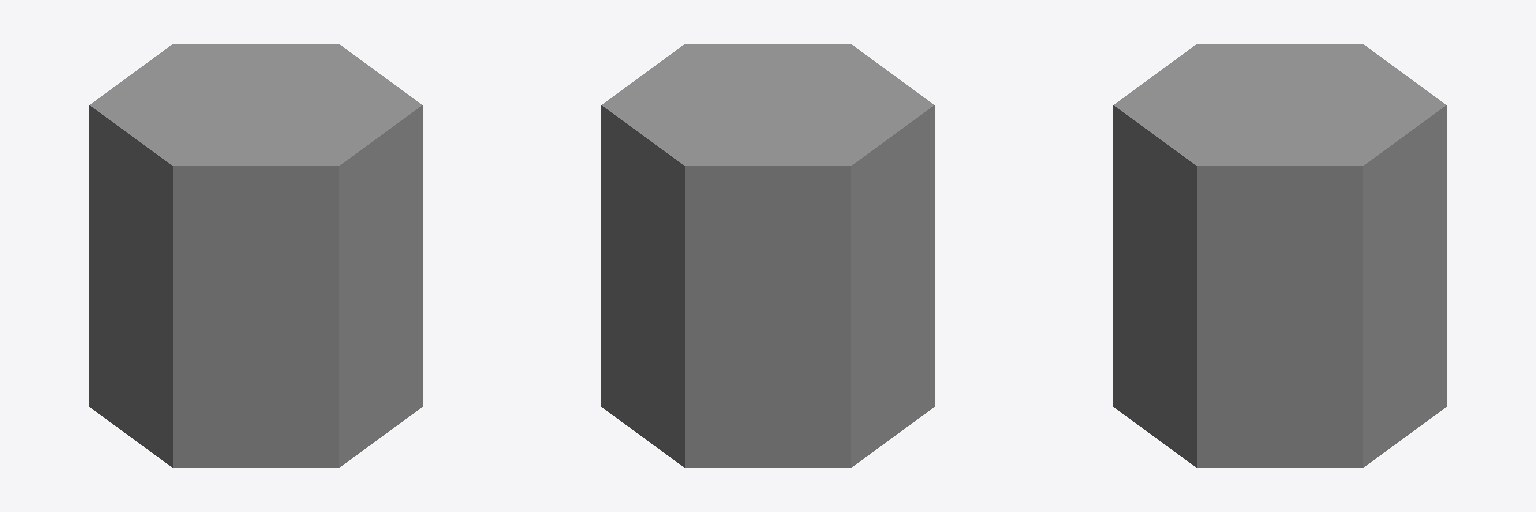
File: hex_prism_2.obj
3 views of the same model, side by side, from view 1: azimuth 30°, elevation 25°; view 2: azimuth 150°, elevation 25°; view 3: azimuth 270°, elevation 25° (orthographic).
Visible parts, largest first — view 1: Prism; view 2: Prism; view 3: Prism.
Part boxes in pixels (left/top/right/bottom): Prism: left=89, top=44, right=422, bottom=467; Prism: left=601, top=44, right=934, bottom=467; Prism: left=1113, top=44, right=1446, bottom=467.
Bounding box in the file's own units: 0.866 × 1 × 1.